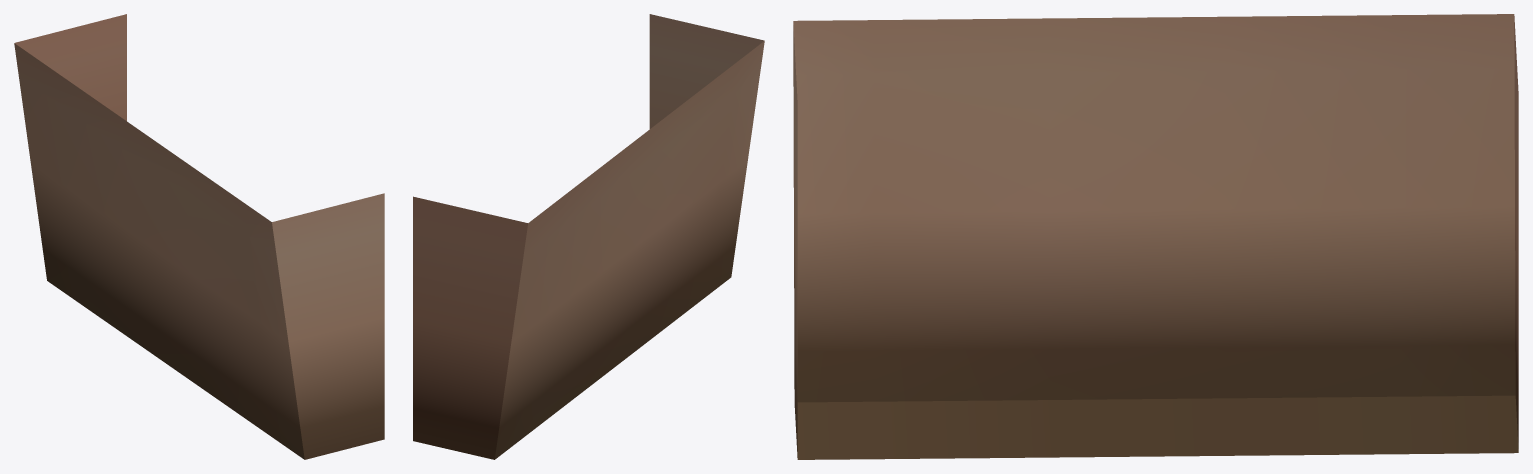
Rendered from object_420_lev3.glb.
3 views of the same model, side by side, from view 1: azimuth 30°, elevation 25°; view 2: azimuth 150°, elevation 25°; view 3: azimuth 270°, elevation 25° (orthographic). The views are drawn at different scales.
Visible parts, largest first — view 1: object_420_lev3; view 2: object_420_lev3; view 3: object_420_lev3.
Boxes of the visible parts, x1=… form: object_420_lev3: x1=14, y1=14, x2=384, y2=459; object_420_lev3: x1=413, y1=14, x2=764, y2=459; object_420_lev3: x1=793, y1=14, x2=1518, y2=459.
Size of the model in its own units: 0.0615 by 0.1166 by 0.2141.
1 material, 1 textured.
